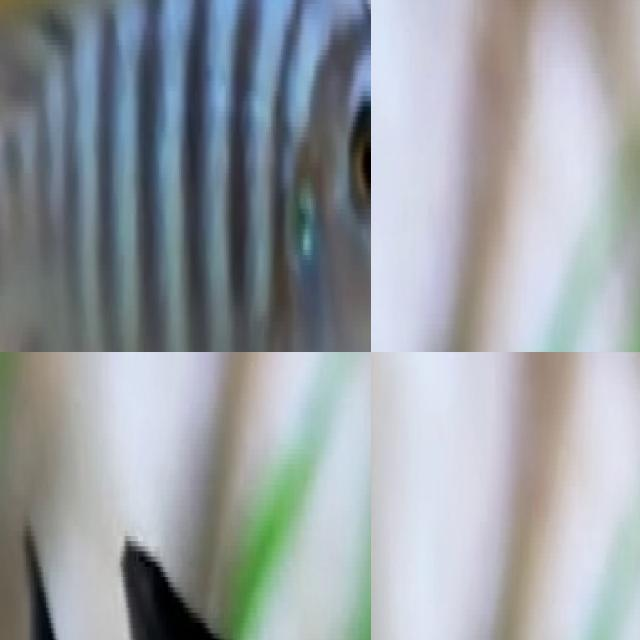fish: (0, 0, 371, 352), (441, 352, 640, 476)
